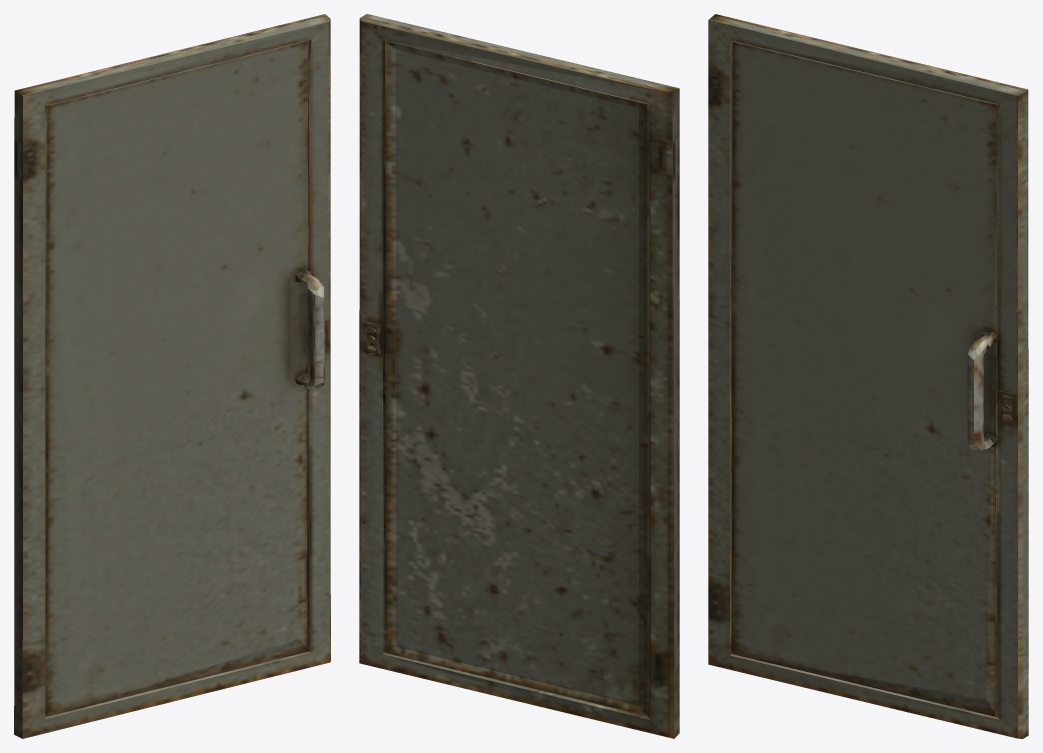
The model's file is E_Cabient_d.fbx.
3 renders of one model, left to right at view 1: azimuth 30°, elevation 25°; view 2: azimuth 150°, elevation 25°; view 3: azimuth 330°, elevation 25°, orthographic.
Parts seen in each view (by area): view 1: E_Cabient_d; view 2: E_Cabient_d; view 3: E_Cabient_d.
Boxes of the visible parts, x1,y1,x2,y2 form: E_Cabient_d: [14, 14, 330, 738]; E_Cabient_d: [359, 14, 679, 738]; E_Cabient_d: [708, 14, 1028, 738].
Size of the model in its own units: 102 by 200 by 16.83.
1 material, 1 textured.
